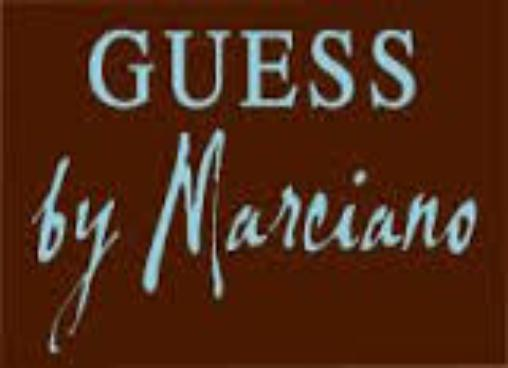GUESS: (76, 22, 434, 121)
